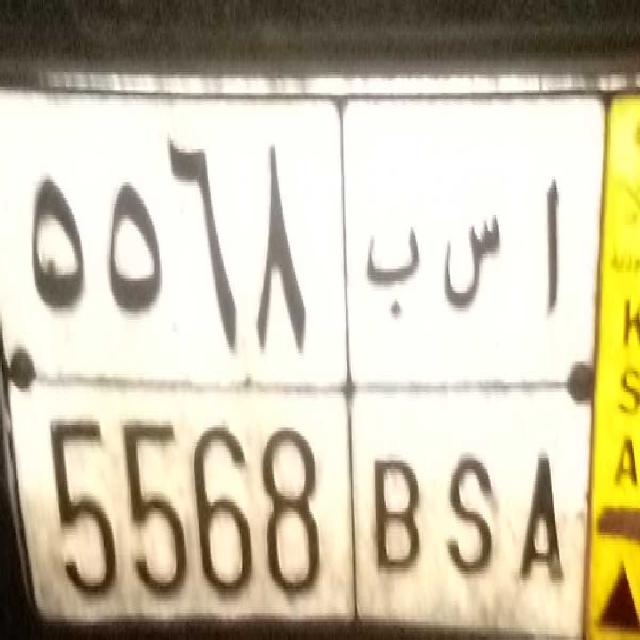license_plate: (24, 368, 588, 629)
